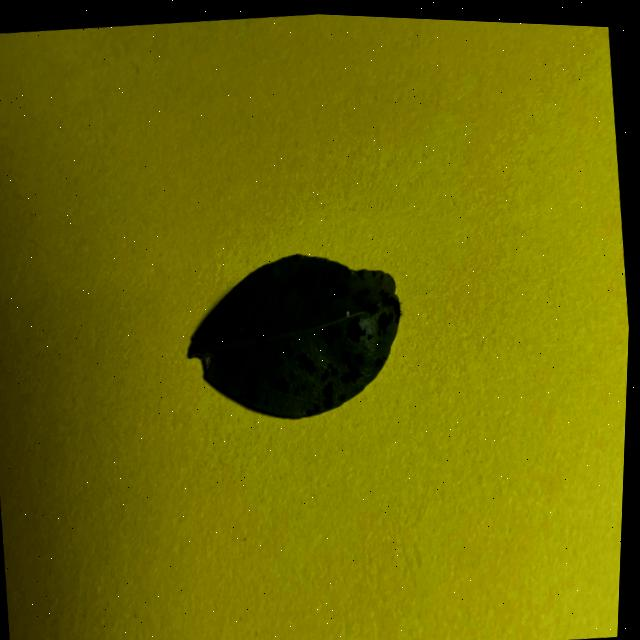sooty_mold: (187, 253, 400, 416)
